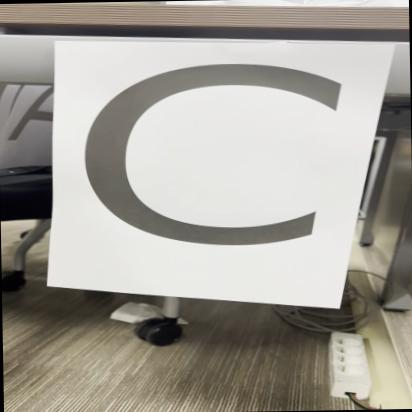seat: (52, 30, 374, 308)
